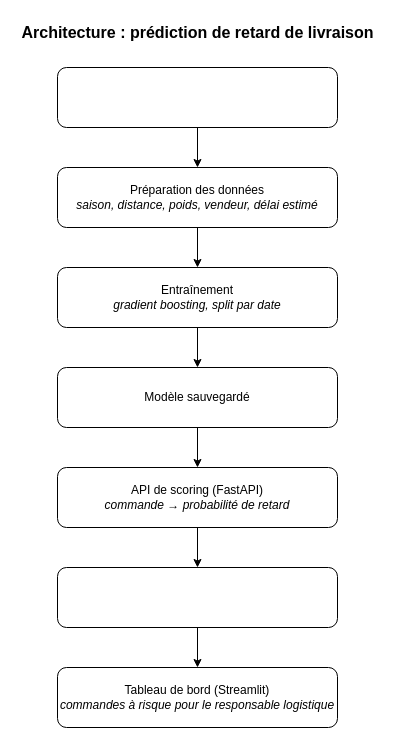
The diagram is 394 pixels wide and 745 high, and some of its shapes have lost their labels. The centre of each missing label's shape, as x and y in pixels:
"Données de bases" belongs at (x=197, y=97).
"Règle de seuil alerte oui / non" belongs at (x=197, y=597).
